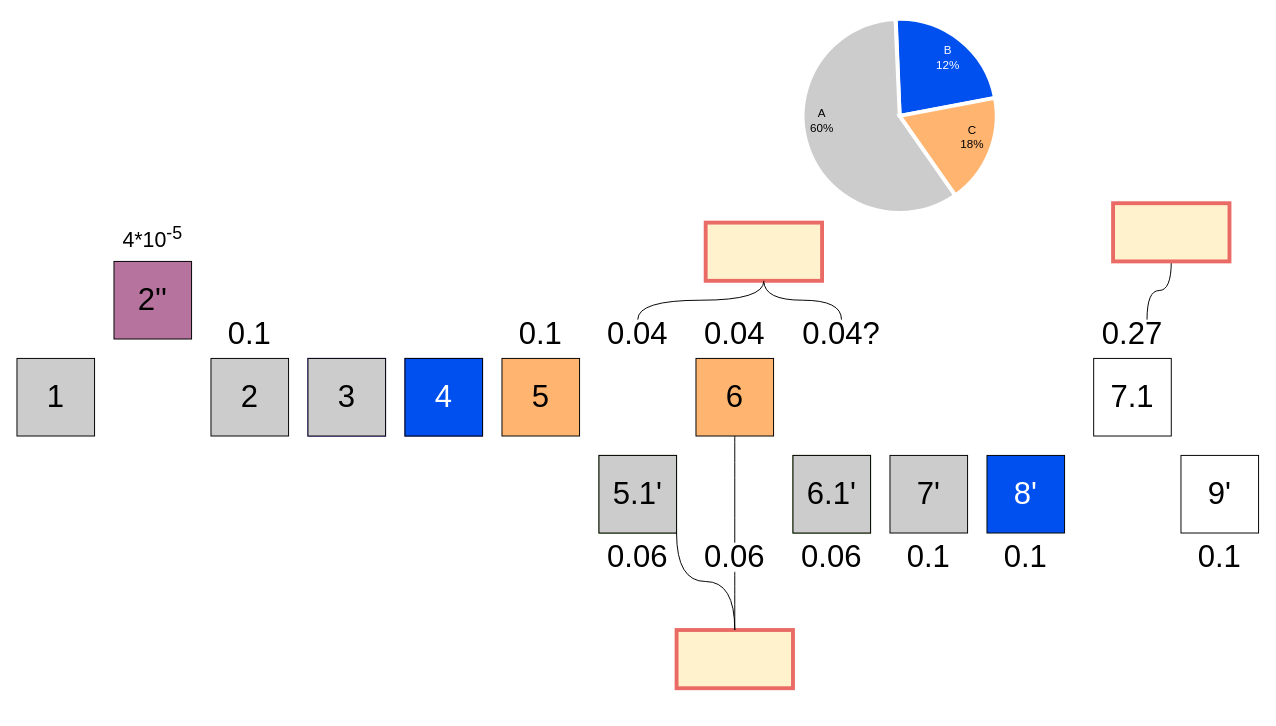
This 1276x726 diagram has some shape labels left out. The box of each missing label's shape, as (x1, y1, x2, y2) in pixels:
Is it possible to fork like this?: (1111, 201, 1231, 263)
No block rewards: (674, 628, 794, 690)
Where is the commit from honest miners?: (703, 220, 824, 282)
